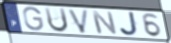6: (141, 13, 163, 38)
G: (22, 6, 45, 33)
J: (118, 11, 141, 37)
N: (90, 10, 119, 36)
U: (43, 6, 70, 33)
V: (67, 8, 90, 35)
